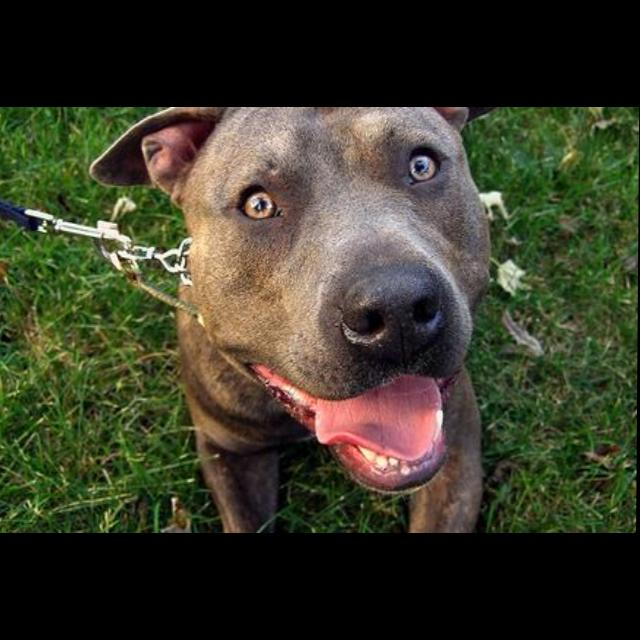amstaff: (85, 108, 507, 534)
